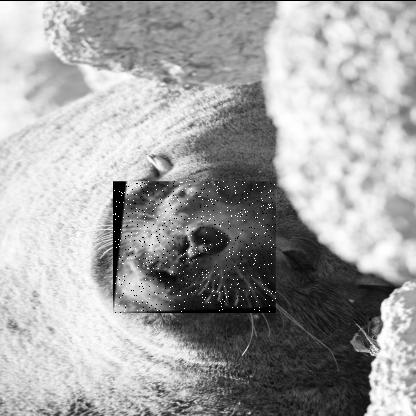face: (113, 179, 277, 312)
